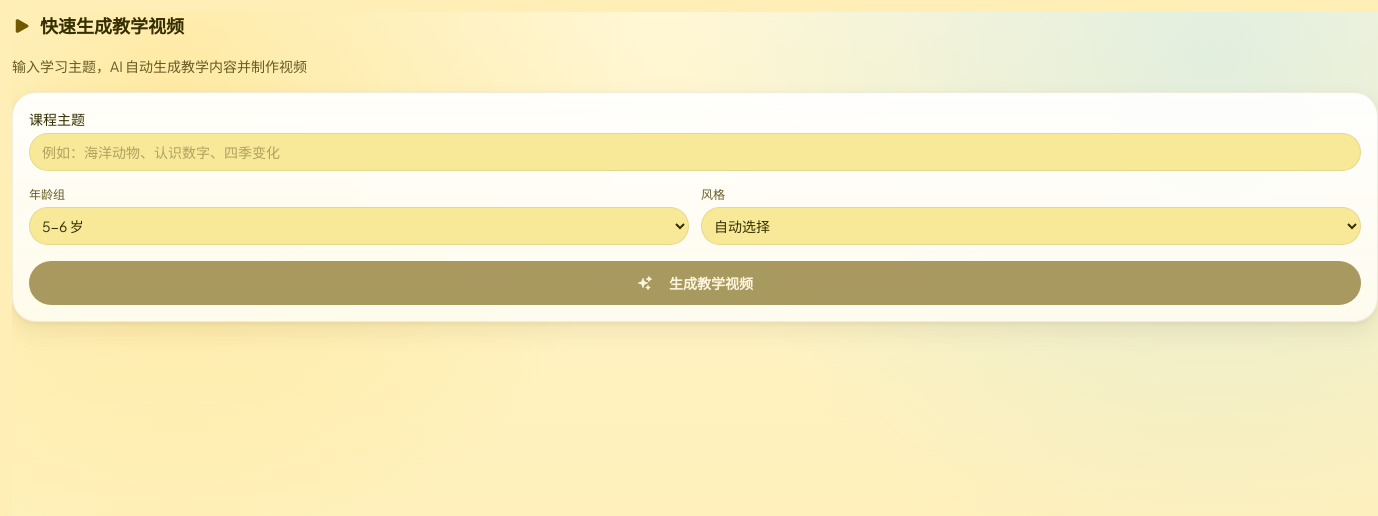
it: QuickVideoGenerator state machine › shows progress and enters polling state
Step 1. Type "海洋动物" into the field with placeholder "例如：海洋动物、认识数字、四季变化" → (695, 152), box x1=29 y1=133 x2=1361 y2=171
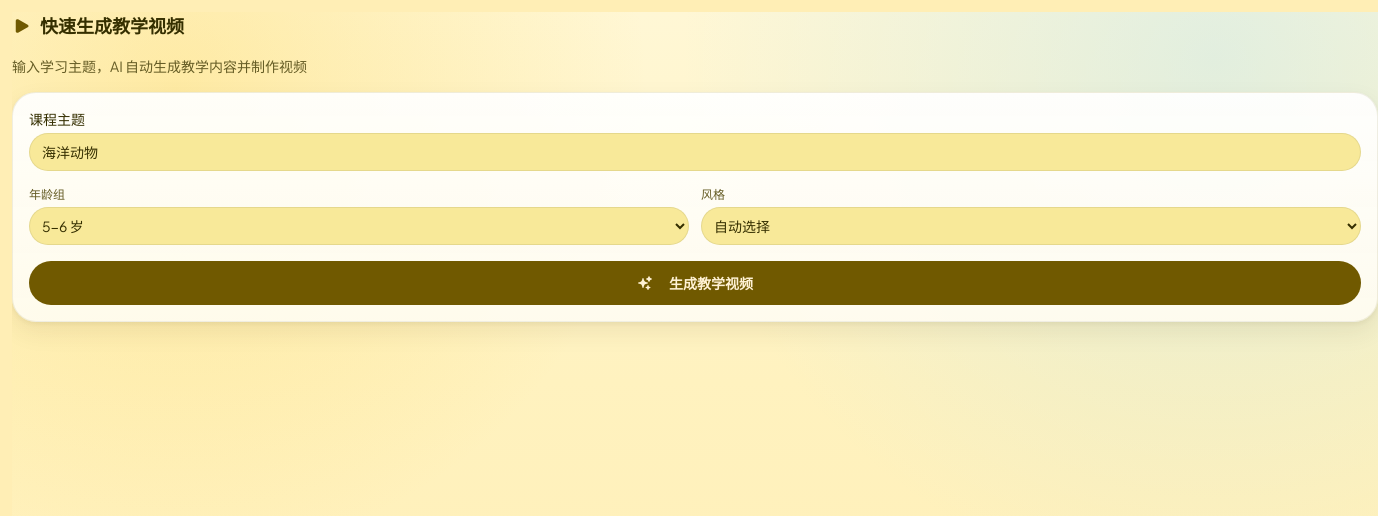
Step 2. Click the button "生成教学视频" → (695, 283), box x1=29 y1=261 x2=1361 y2=305
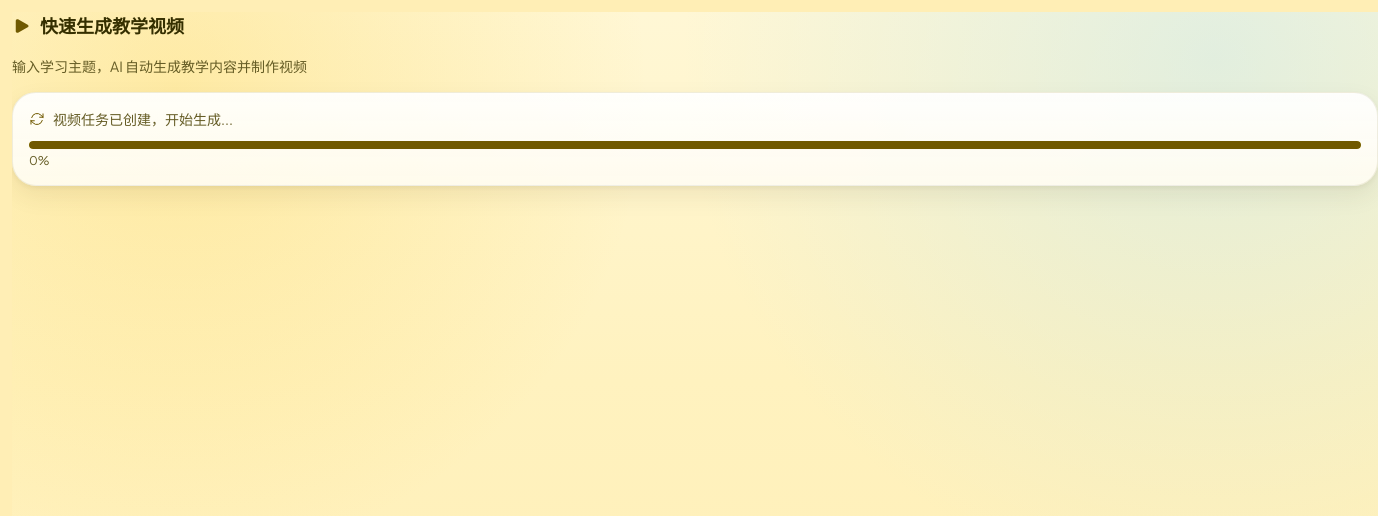
Result: the text "视频任务已创建，开始生成..." is shown at x1=29 y1=110 x2=233 y2=128
Result: the text "0%" is shown at x1=29 y1=153 x2=50 y2=168
